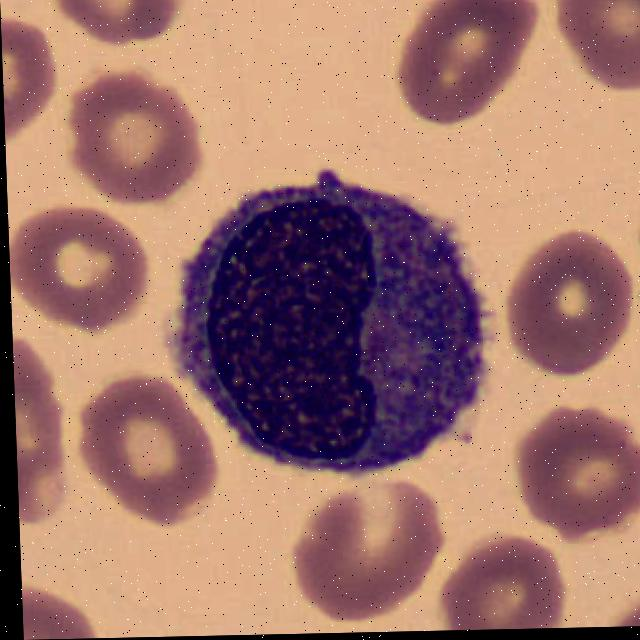monocyte: (175, 166, 498, 474)
rbc: (275, 471, 447, 624), (69, 370, 215, 532), (386, 0, 553, 141), (64, 59, 214, 215), (504, 227, 638, 390), (8, 203, 153, 334), (511, 406, 640, 534), (440, 520, 570, 631), (12, 324, 72, 526), (48, 0, 205, 69), (549, 0, 640, 111), (0, 0, 59, 155), (21, 568, 113, 640), (579, 589, 640, 627)
